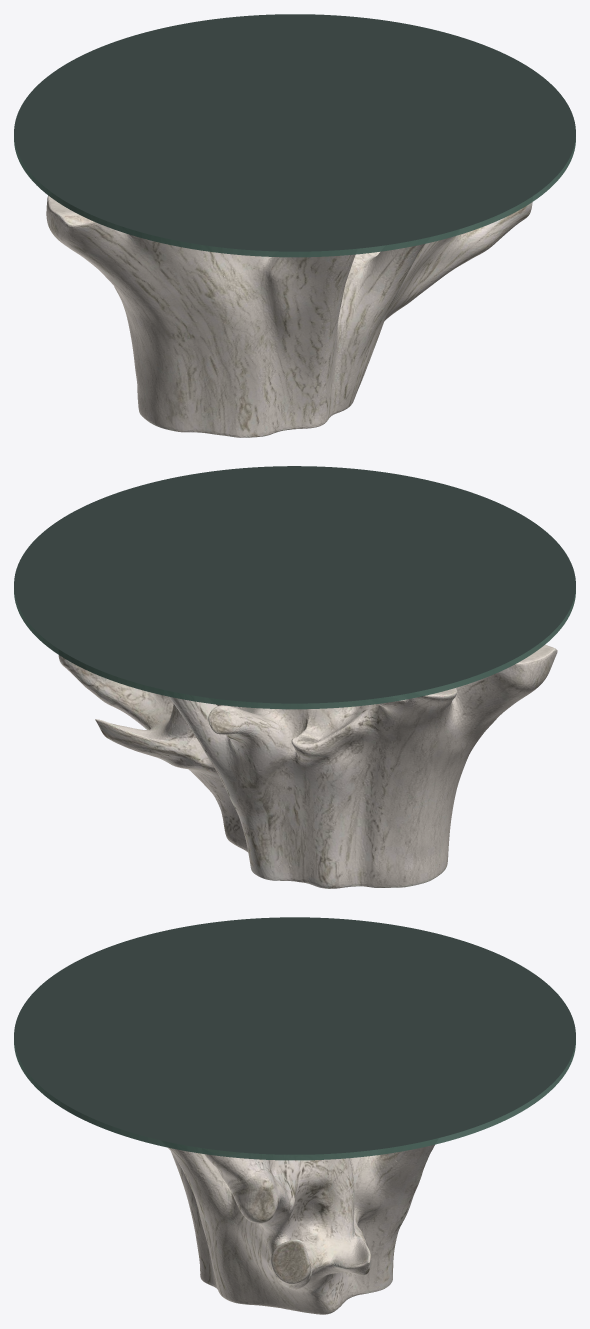
File: mesa_raiz_ar.glb
The picture shows the model from 3 angles, top to bottom: view 1: azimuth 30°, elevation 25°; view 2: azimuth 150°, elevation 25°; view 3: azimuth 270°, elevation 25°; orthographic projection.
Parts seen in each view (by area): view 1: tampo_vidro, raiz, tampo_vidro_borda; view 2: tampo_vidro, raiz, tampo_vidro_borda; view 3: tampo_vidro, raiz, tampo_vidro_borda.
Boxes of the visible parts, x1,y1,x2,y2 form: tampo_vidro: (14,14,575,251); raiz: (46,195,532,437); tampo_vidro_borda: (14,137,575,257); tampo_vidro: (14,466,575,703); raiz: (58,644,557,888); tampo_vidro_borda: (14,589,575,709); tampo_vidro: (14,917,575,1154); raiz: (168,1144,434,1314); tampo_vidro_borda: (14,1040,575,1160).
Size of the model in its own units: 0.9103 by 0.45 by 0.9.
4 materials, 2 textured.
